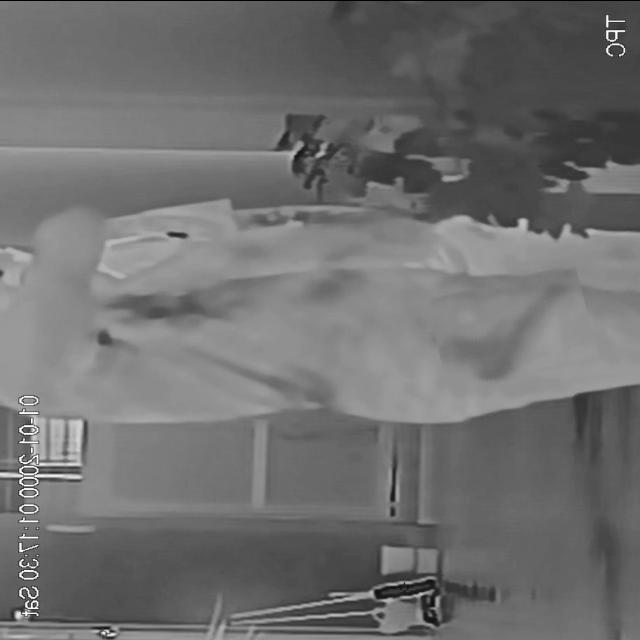Weapon: (431, 271, 595, 386)
